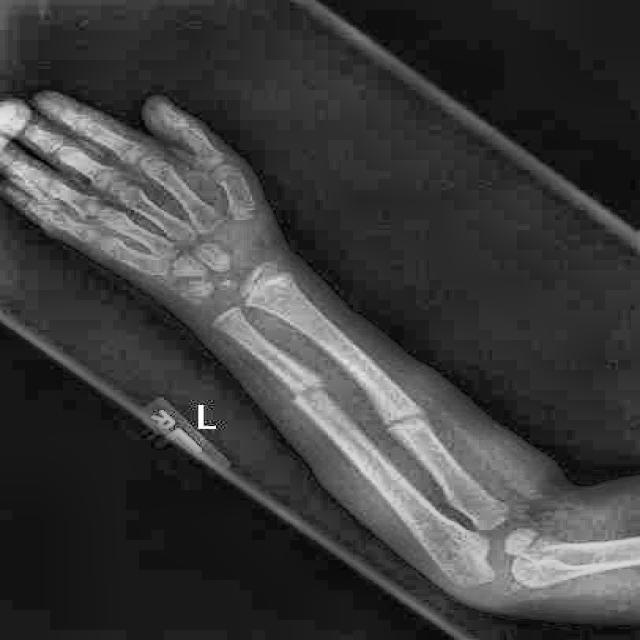forearm fracture: (249, 344, 365, 435), (371, 382, 461, 461)
